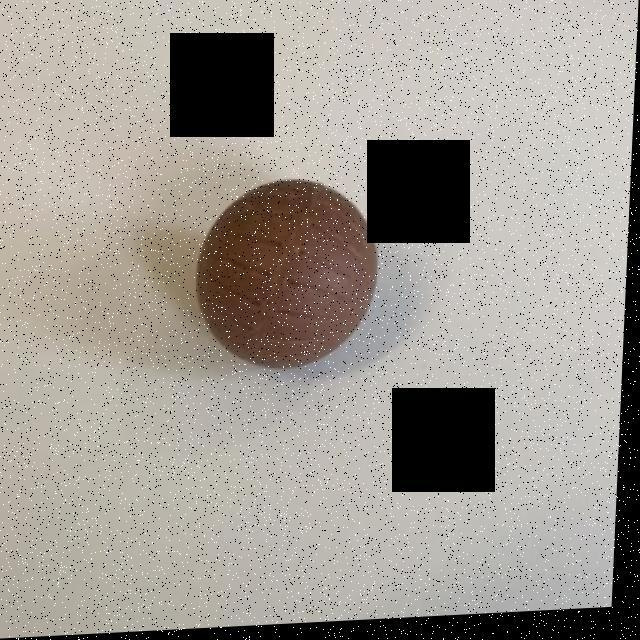chocolate: (200, 184, 379, 369)
